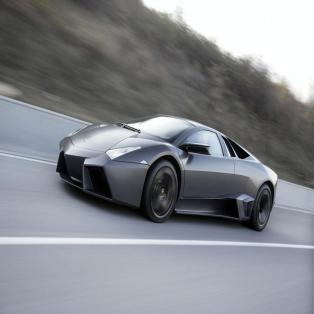Auto: (56, 113, 278, 232)
